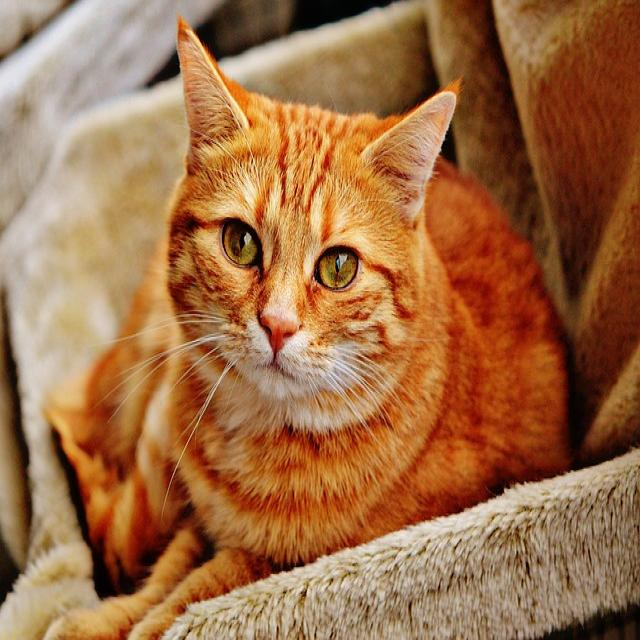animal: (43, 18, 574, 640)
